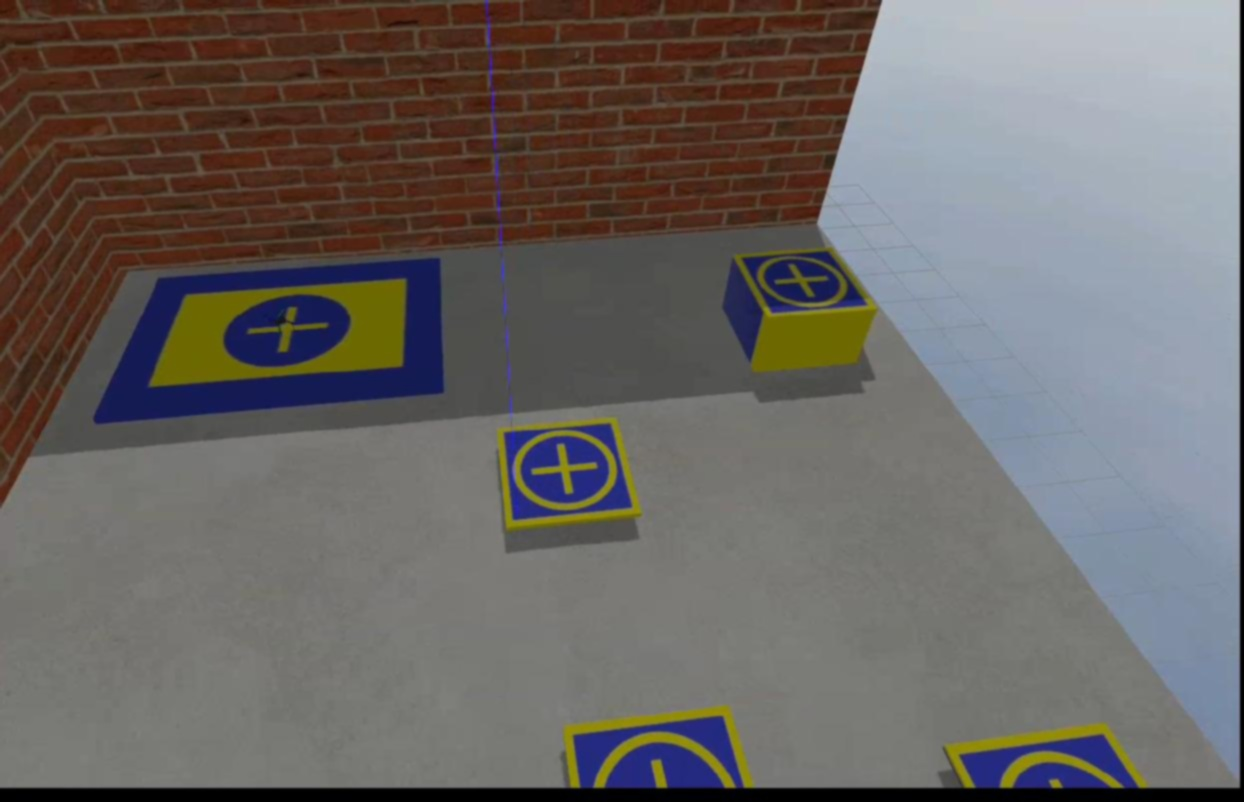large_base: (97, 259, 448, 426)
small_base: (496, 419, 643, 535), (565, 702, 755, 791), (946, 725, 1145, 788), (732, 245, 879, 322)
